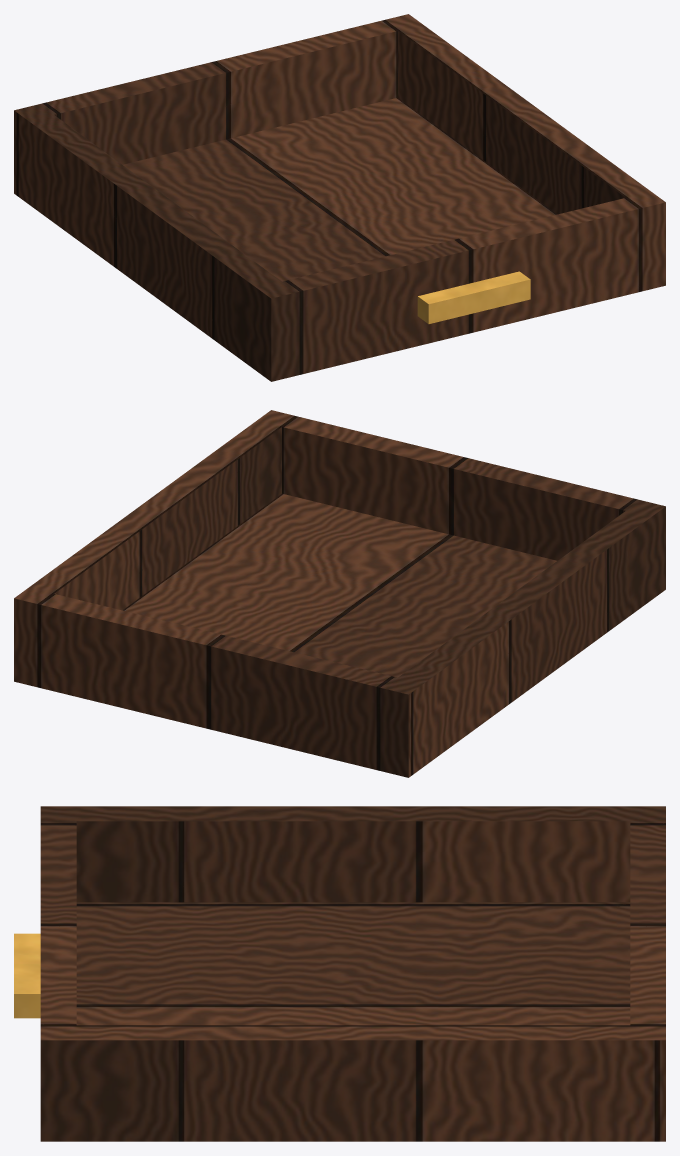
The model's file is dun_drawer.glb.
The picture shows the model from 3 angles, top to bottom: view 1: azimuth 30°, elevation 25°; view 2: azimuth 150°, elevation 25°; view 3: azimuth 270°, elevation 25°; orthographic projection. The views are drawn at different scales.
Parts seen in each view (by area): view 1: dun_drawer_dwood_0, dun_drawer_gold_0; view 2: dun_drawer_dwood_0; view 3: dun_drawer_dwood_0, dun_drawer_gold_0.
Boxes of the visible parts, box(x1,y1,x2,y2) form: dun_drawer_dwood_0: box(14, 14, 665, 381); dun_drawer_gold_0: box(417, 271, 530, 323); dun_drawer_dwood_0: box(14, 410, 665, 777); dun_drawer_dwood_0: box(40, 806, 665, 1141); dun_drawer_gold_0: box(14, 933, 40, 1018).
Bounding box in the file's own units: 0.62 × 0.125 × 0.73.
Materials: 2 (2 with a texture image).
